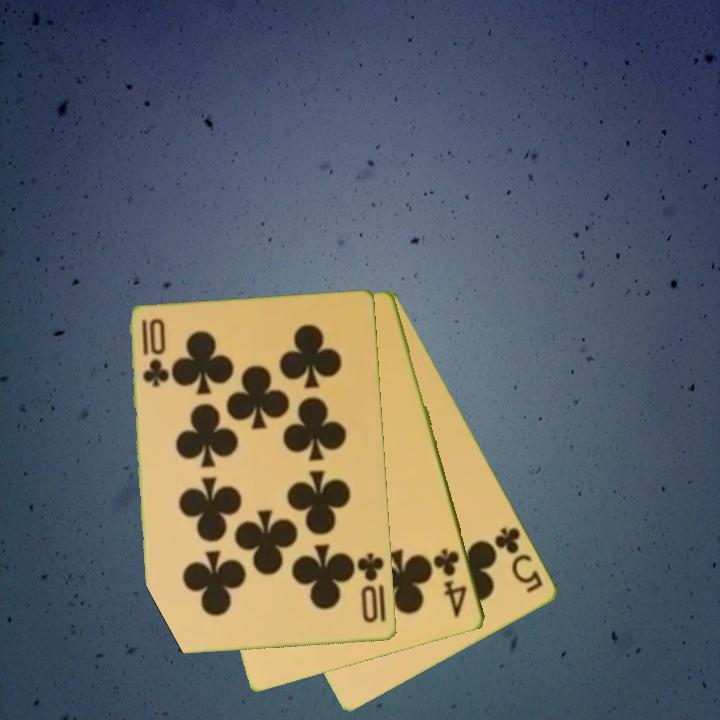10c: (354, 549, 388, 626), (138, 315, 170, 390)
4c: (430, 545, 471, 621)
5c: (491, 523, 547, 596)
